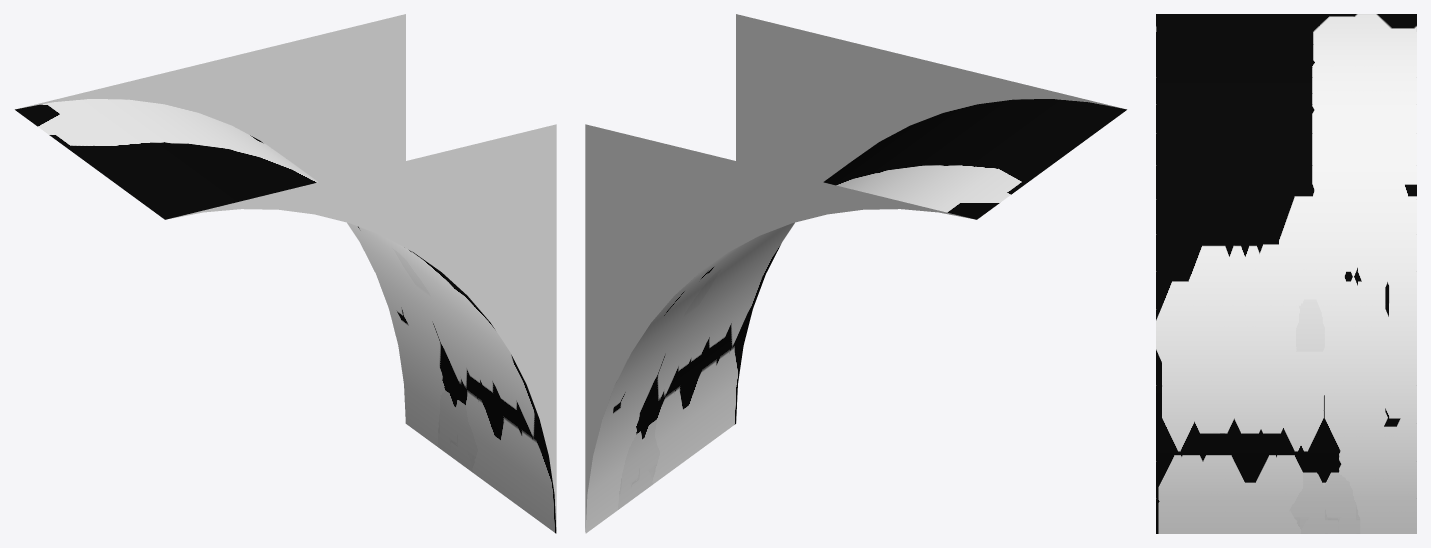
The model's file is Group_Whitebox_cube (26).fbx.
3 views of the same model, side by side, from view 1: azimuth 30°, elevation 25°; view 2: azimuth 150°, elevation 25°; view 3: azimuth 270°, elevation 25° (orthographic). The views are drawn at different scales.
Visible parts, largest first — view 1: Whitebox_cube (26); view 2: Whitebox_cube (26); view 3: Whitebox_cube (26).
Part boxes in pixels (x1,y1,x2,y2): Whitebox_cube (26): [15, 14, 556, 533]; Whitebox_cube (26): [585, 14, 1126, 533]; Whitebox_cube (26): [1156, 14, 1416, 533].
Size of the model in its own units: 1.5 by 1.5 by 1.
Materials: 1 (1 with a texture image).
